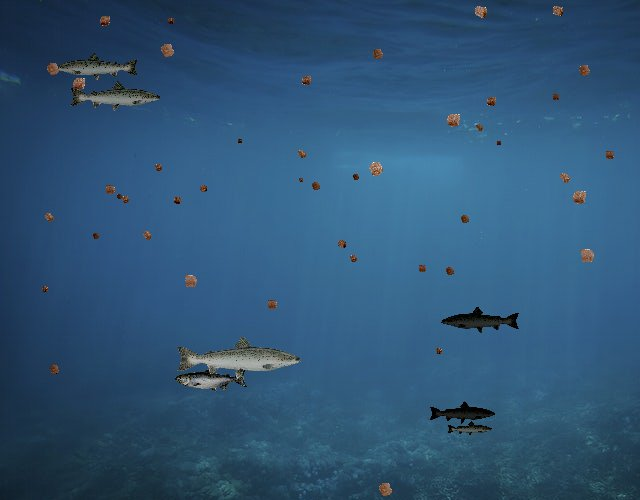Fish: (174, 334, 303, 380), (68, 80, 162, 113), (54, 51, 140, 82), (441, 305, 522, 334), (175, 366, 248, 393), (429, 400, 497, 425), (447, 421, 494, 437)
Pellet: (439, 106, 468, 135), (565, 183, 593, 211), (467, 0, 494, 26), (572, 59, 596, 83), (296, 70, 317, 91), (455, 210, 474, 229), (345, 251, 362, 268), (432, 344, 446, 358), (38, 282, 52, 296)
